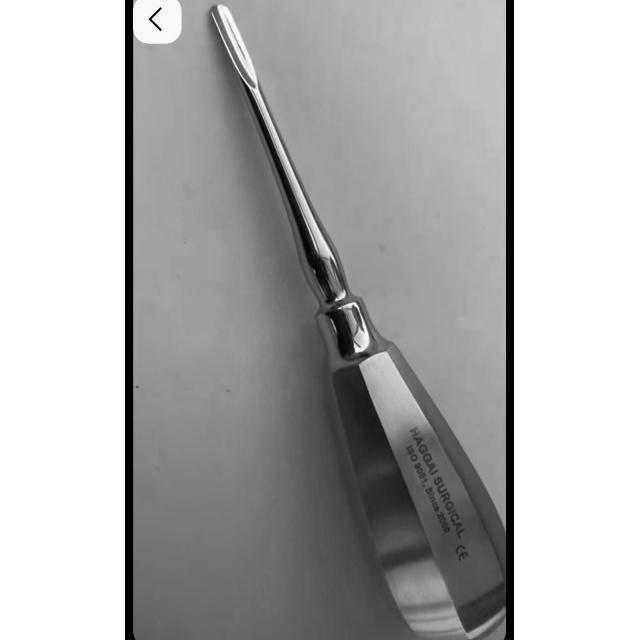botador: (207, 4, 508, 639)
